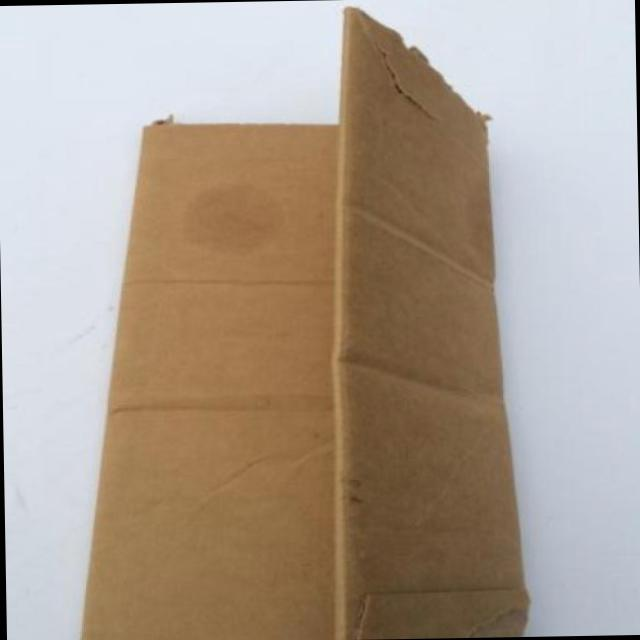cardboard paper: (79, 8, 523, 640)
